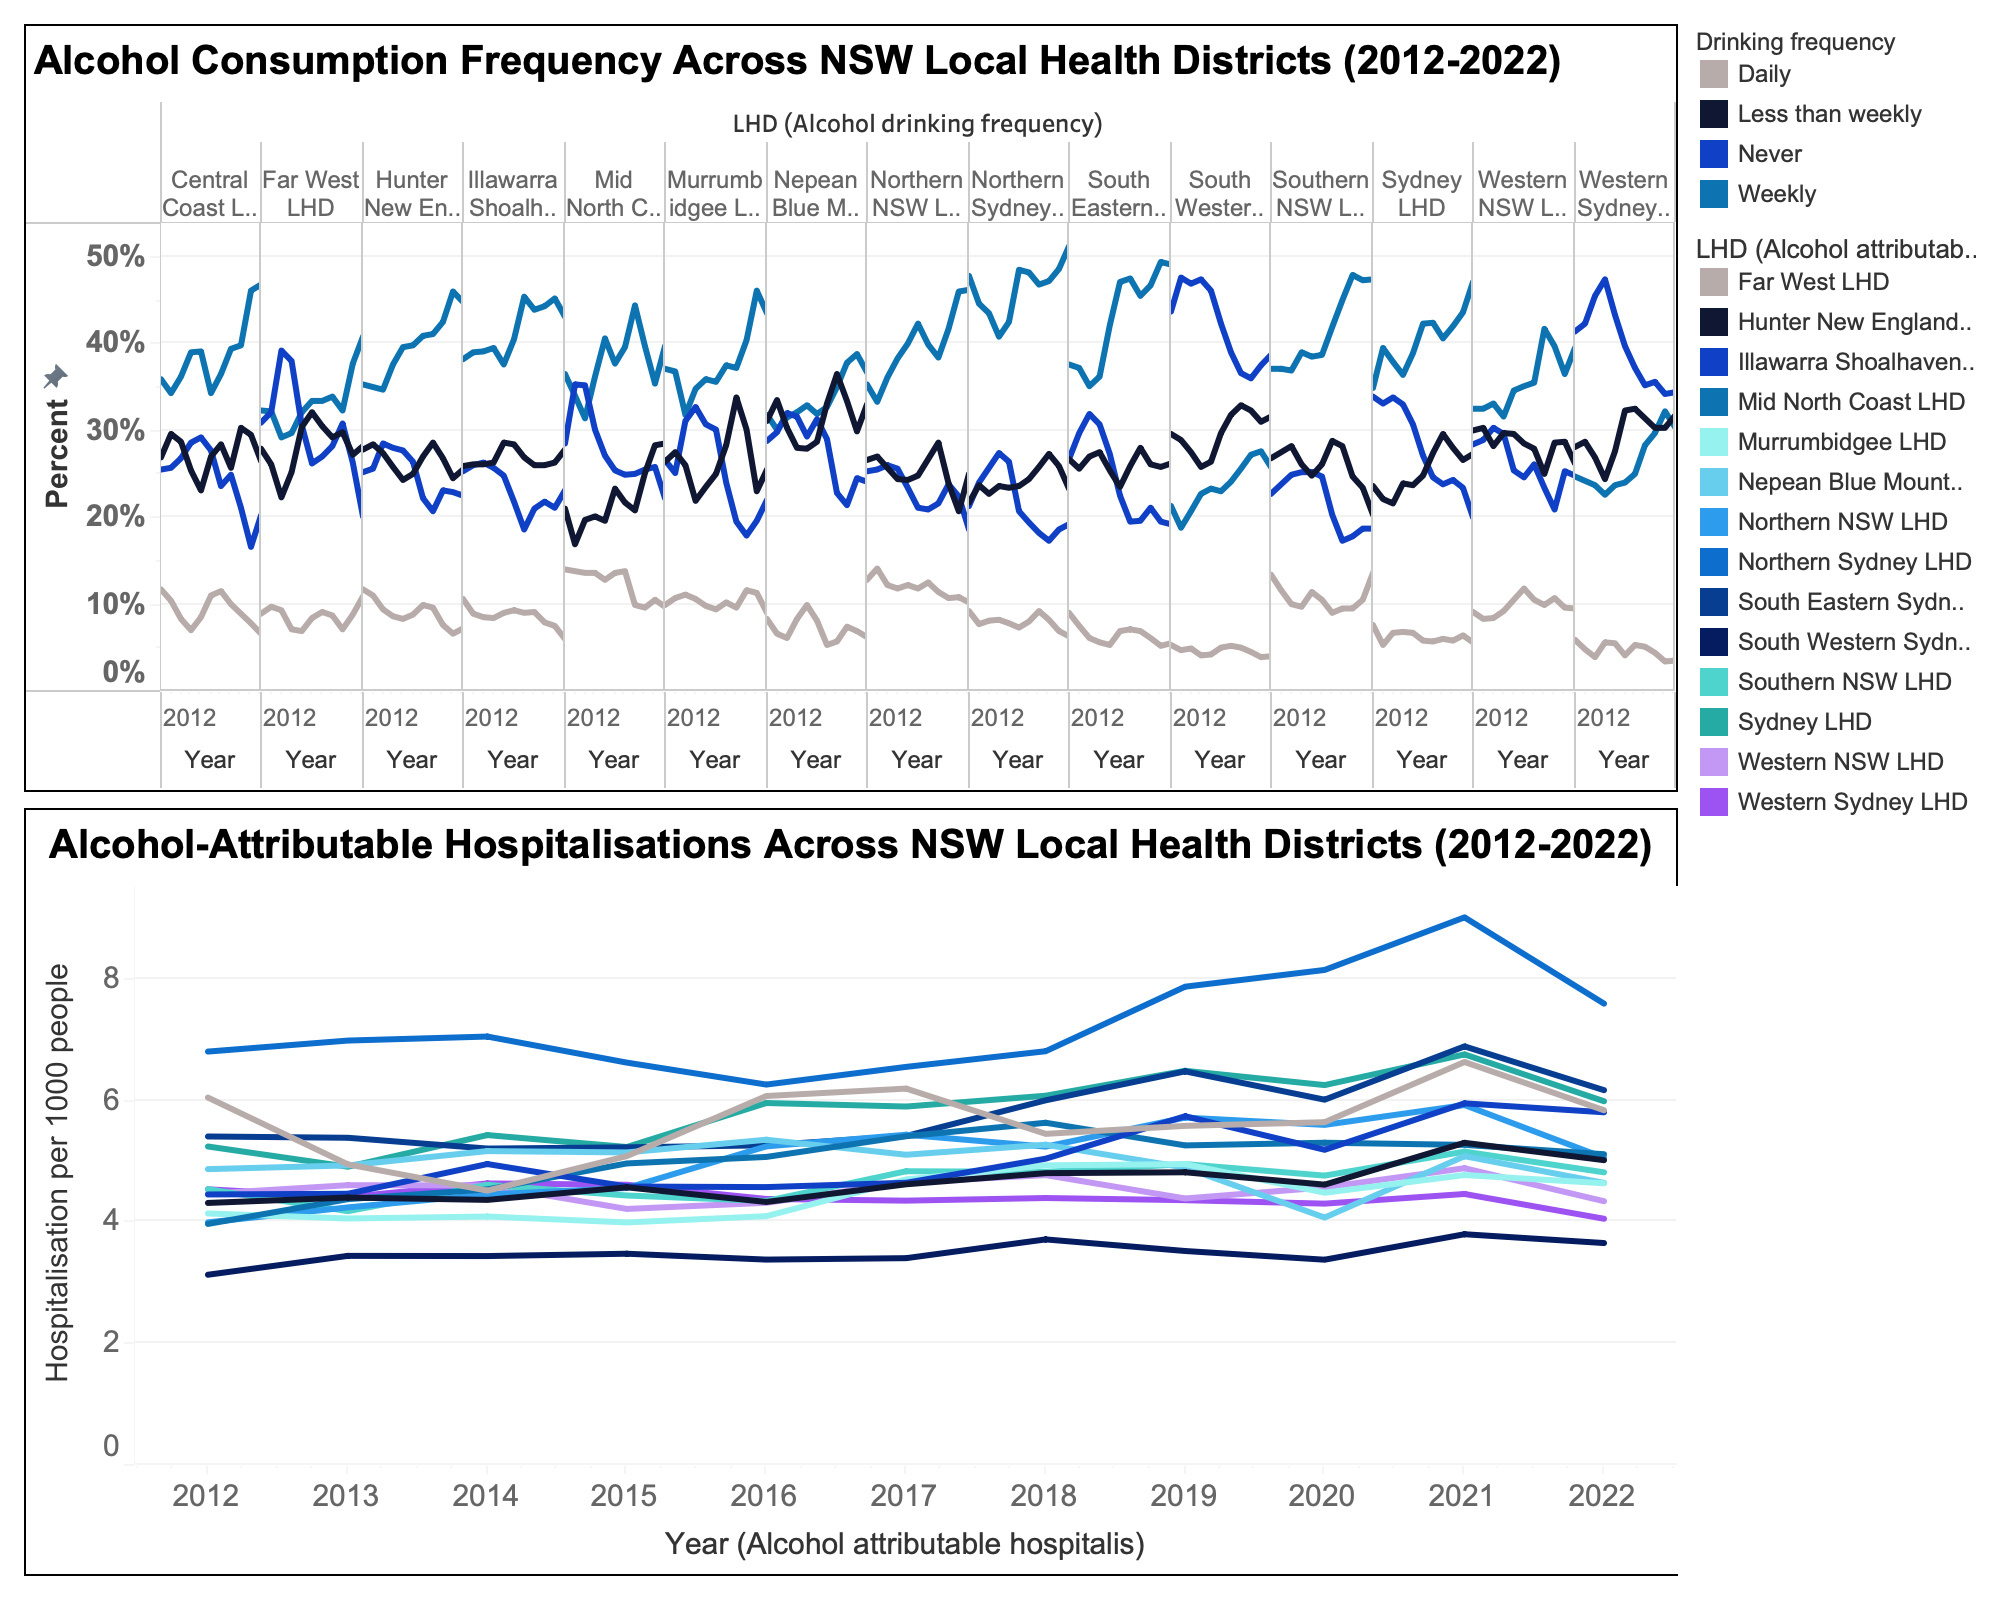

Layout of this report page (visuals, bound fields, positions):
{"tool":"tableau","page":{"name":"Alcohol consumption Analysis","canvas":[1000,800],"ordinal":0},"visuals":[{"type":"worksheet","title":"Alcohol Consumption Frequency Across NSW Local Health Districts (2012-2022)","mark":"Line","rows":["Per cent"],"cols":["LHD (Alcohol drinking frequency)","Adjusted Period (Alcohol drinking frequency)"],"box":[8,8,835,392]},{"type":"legend","title":"Alcohol Consumption Frequency Across NSW Local Health Districts (2012-2022)","param":"[federated.02gao4w0uxefwz1dsfkx11q1vcgu].[none:Drinking frequency:nk]","box":[843,8,149,103]},{"type":"legend","title":"Alcohol-Attributable Hospitalisations Across NSW Local Health Districts (2012-2022)","param":"[federated.02gao4w0uxefwz1dsfkx11q1vcgu].[none:LHD (Alcohol attributable hospita","box":[843,111,149,304]},{"type":"worksheet","title":"Alcohol-Attributable Hospitalisations Across NSW Local Health Districts (2012-2022)","mark":"Automatic","rows":["Hospitalisation per 1000 people"],"cols":["Adjusted Period (Alcohol attributable hospitalis)"],"box":[8,400,835,392]}]}

Visuals, with their boxes in screenshot pixels (x1, y1, x2, y2), scaled from the page's 1000x800 canvas onto the 2000x1600 screenshot:
"Alcohol Consumption Frequency Across NSW Local Health Districts (2012-2022)" worksheet (Line marks): crop(16, 16, 1686, 800)
"Alcohol Consumption Frequency Across NSW Local Health Districts (2012-2022)" legend: crop(1686, 16, 1984, 222)
"Alcohol-Attributable Hospitalisations Across NSW Local Health Districts (2012-2022)" legend: crop(1686, 222, 1984, 830)
"Alcohol-Attributable Hospitalisations Across NSW Local Health Districts (2012-2022)" worksheet: crop(16, 800, 1686, 1584)
